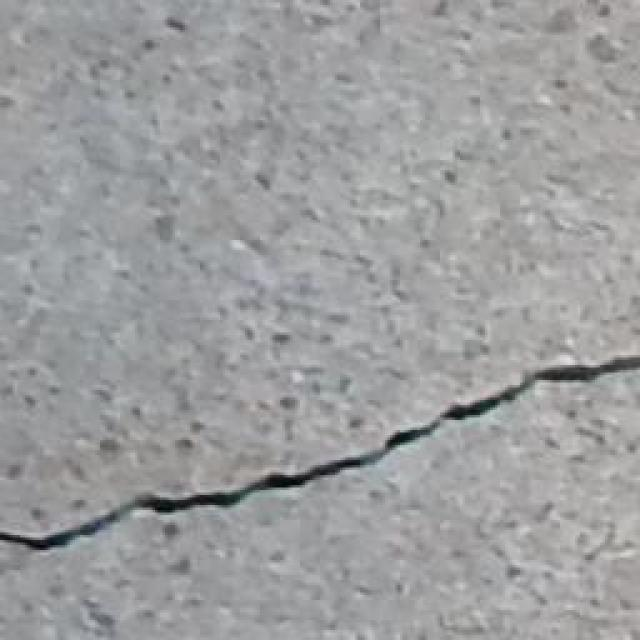concrete-crack: (0, 348, 640, 559)
